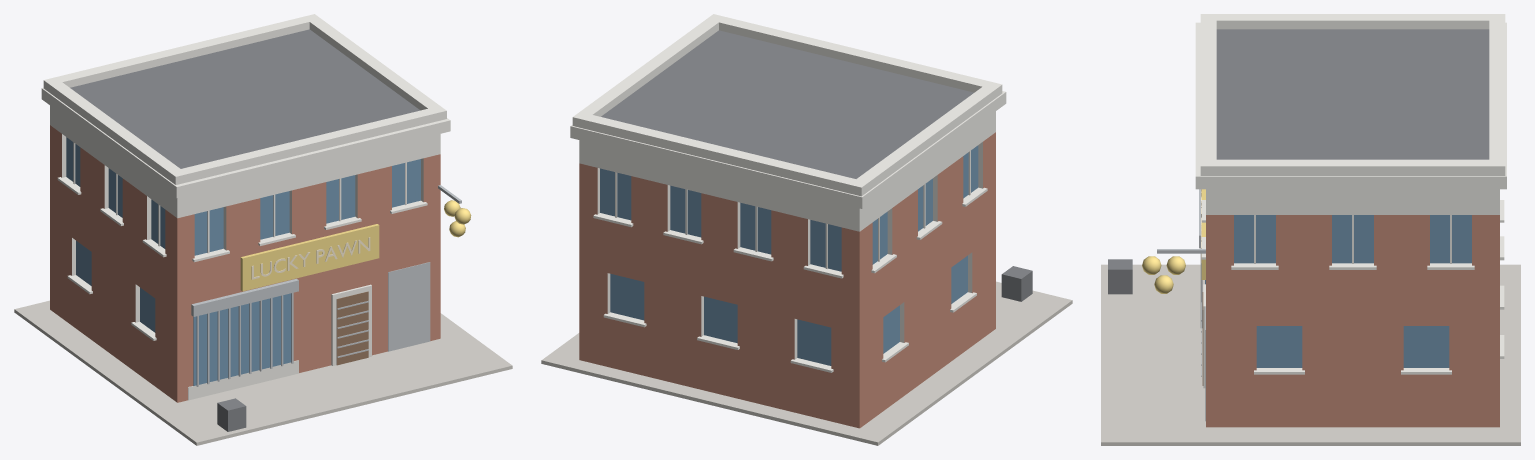
Rendered from pawn_shop.glb.
3 renders of one model, left to right at view 1: azimuth 30°, elevation 25°; view 2: azimuth 150°, elevation 25°; view 3: azimuth 270°, elevation 25°, orthographic. The views are drawn at different scales.
Parts seen in each view (by area): view 1: pawn_shop; view 2: pawn_shop; view 3: pawn_shop.
Part boxes in pixels (box(x1,y1,x2,y2)): pawn_shop: box(14, 14, 512, 445); pawn_shop: box(541, 14, 1072, 445); pawn_shop: box(1101, 14, 1520, 445).
Size of the model in its own units: 12 by 8.42 by 12.
